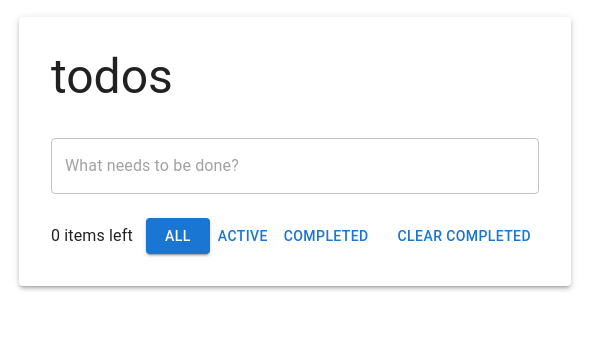
Test: clears completed todos
Type "Completed todo" into the field with placeholder "What needs to be done?" at (295, 166), box [51,138,539,194]
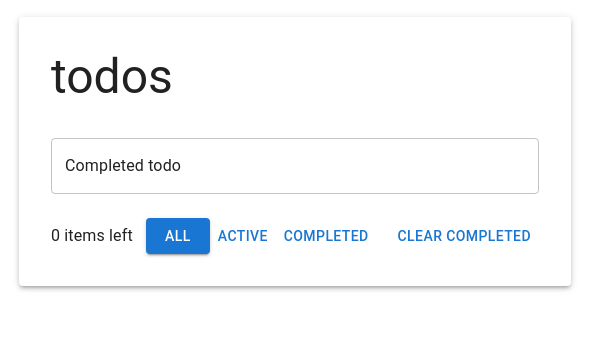
Submit the form from the field with placeholder "What needs to be done?", box [51,138,539,194]
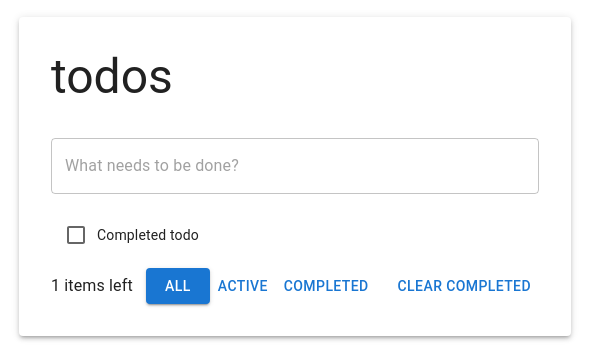
Click the button "Completed todo" at (131, 235), box [64,223,199,247]
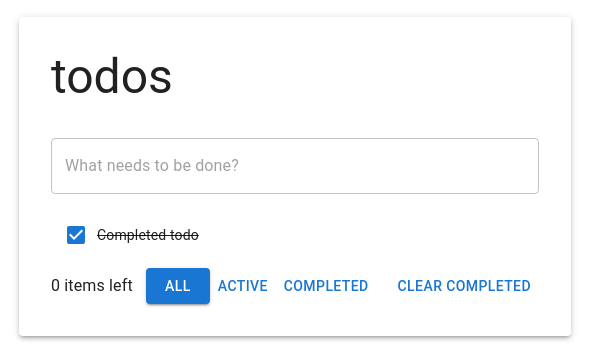
Click the button "Clear completed" at (464, 286), box [390,268,539,304]
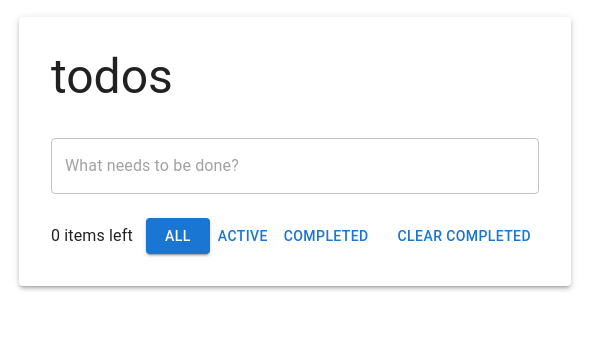
Expected: the button "Completed todo" is gone
